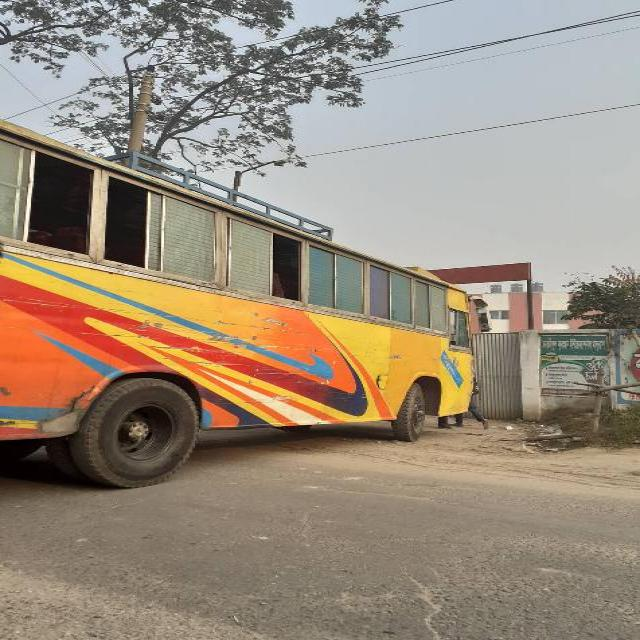vehicle: (1, 123, 474, 463)
